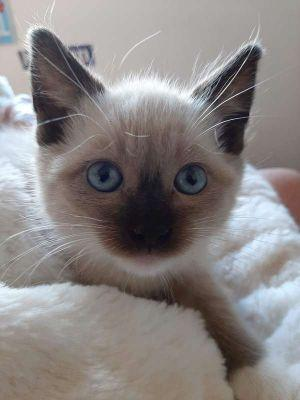siamese: (19, 17, 272, 296)
